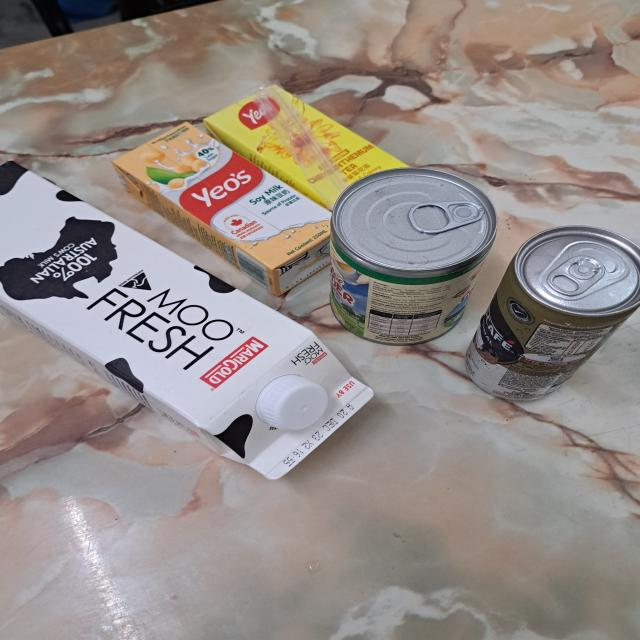can: (467, 224, 640, 402), (331, 168, 498, 346)
drink carton: (0, 158, 376, 479), (113, 121, 339, 296), (205, 82, 414, 213)
plastic bottle cap: (253, 374, 330, 436)
pop tab: (403, 197, 486, 236), (543, 254, 607, 297)
